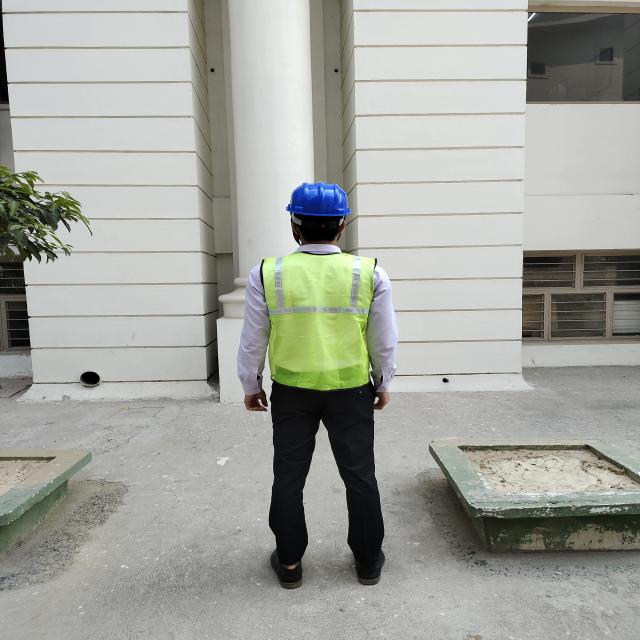safe: (238, 182, 395, 587)
